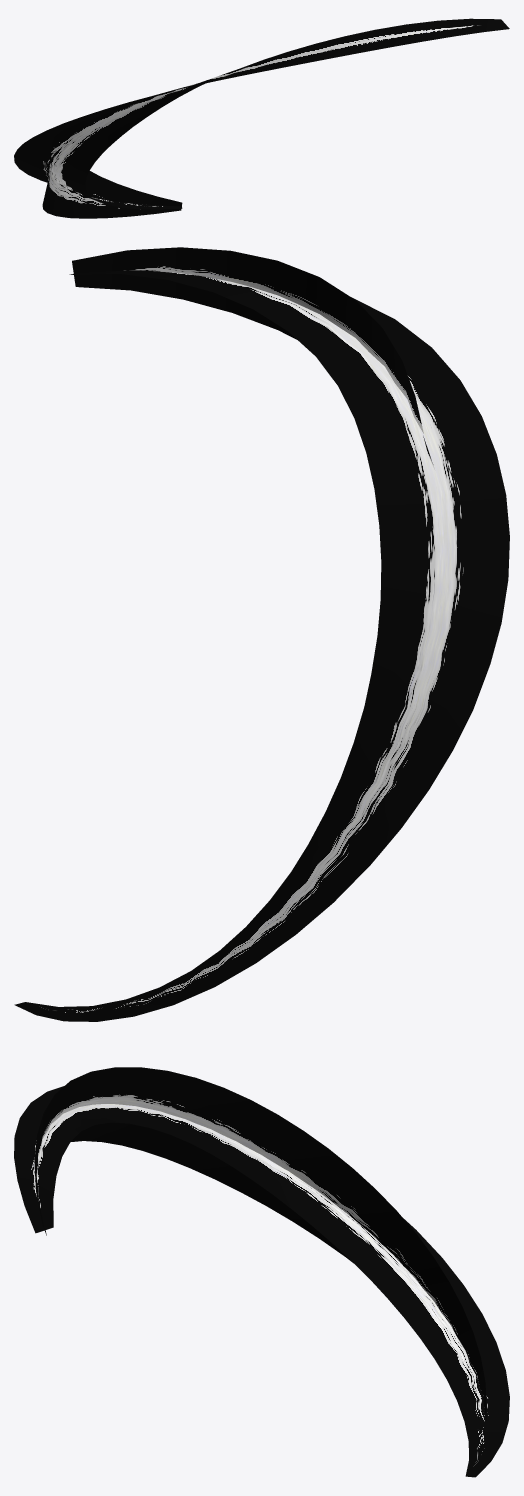
Rendered from TX_heqizhan_2.fbx.
The picture shows the model from 3 angles, top to bottom: view 1: azimuth 30°, elevation 25°; view 2: azimuth 150°, elevation 25°; view 3: azimuth 270°, elevation 25°; orthographic projection. The views are drawn at different scales.
Visible parts, largest first — view 1: TX_heqizhan_2; view 2: TX_heqizhan_2; view 3: TX_heqizhan_2.
Part boxes in pixels (x1,y1,x2,y2): TX_heqizhan_2: (14, 18, 509, 218); TX_heqizhan_2: (14, 247, 509, 1021); TX_heqizhan_2: (14, 1067, 509, 1477).
Bounding box in the file's own units: 1.23 × 1.07 × 1.25.
1 material, 1 textured.
